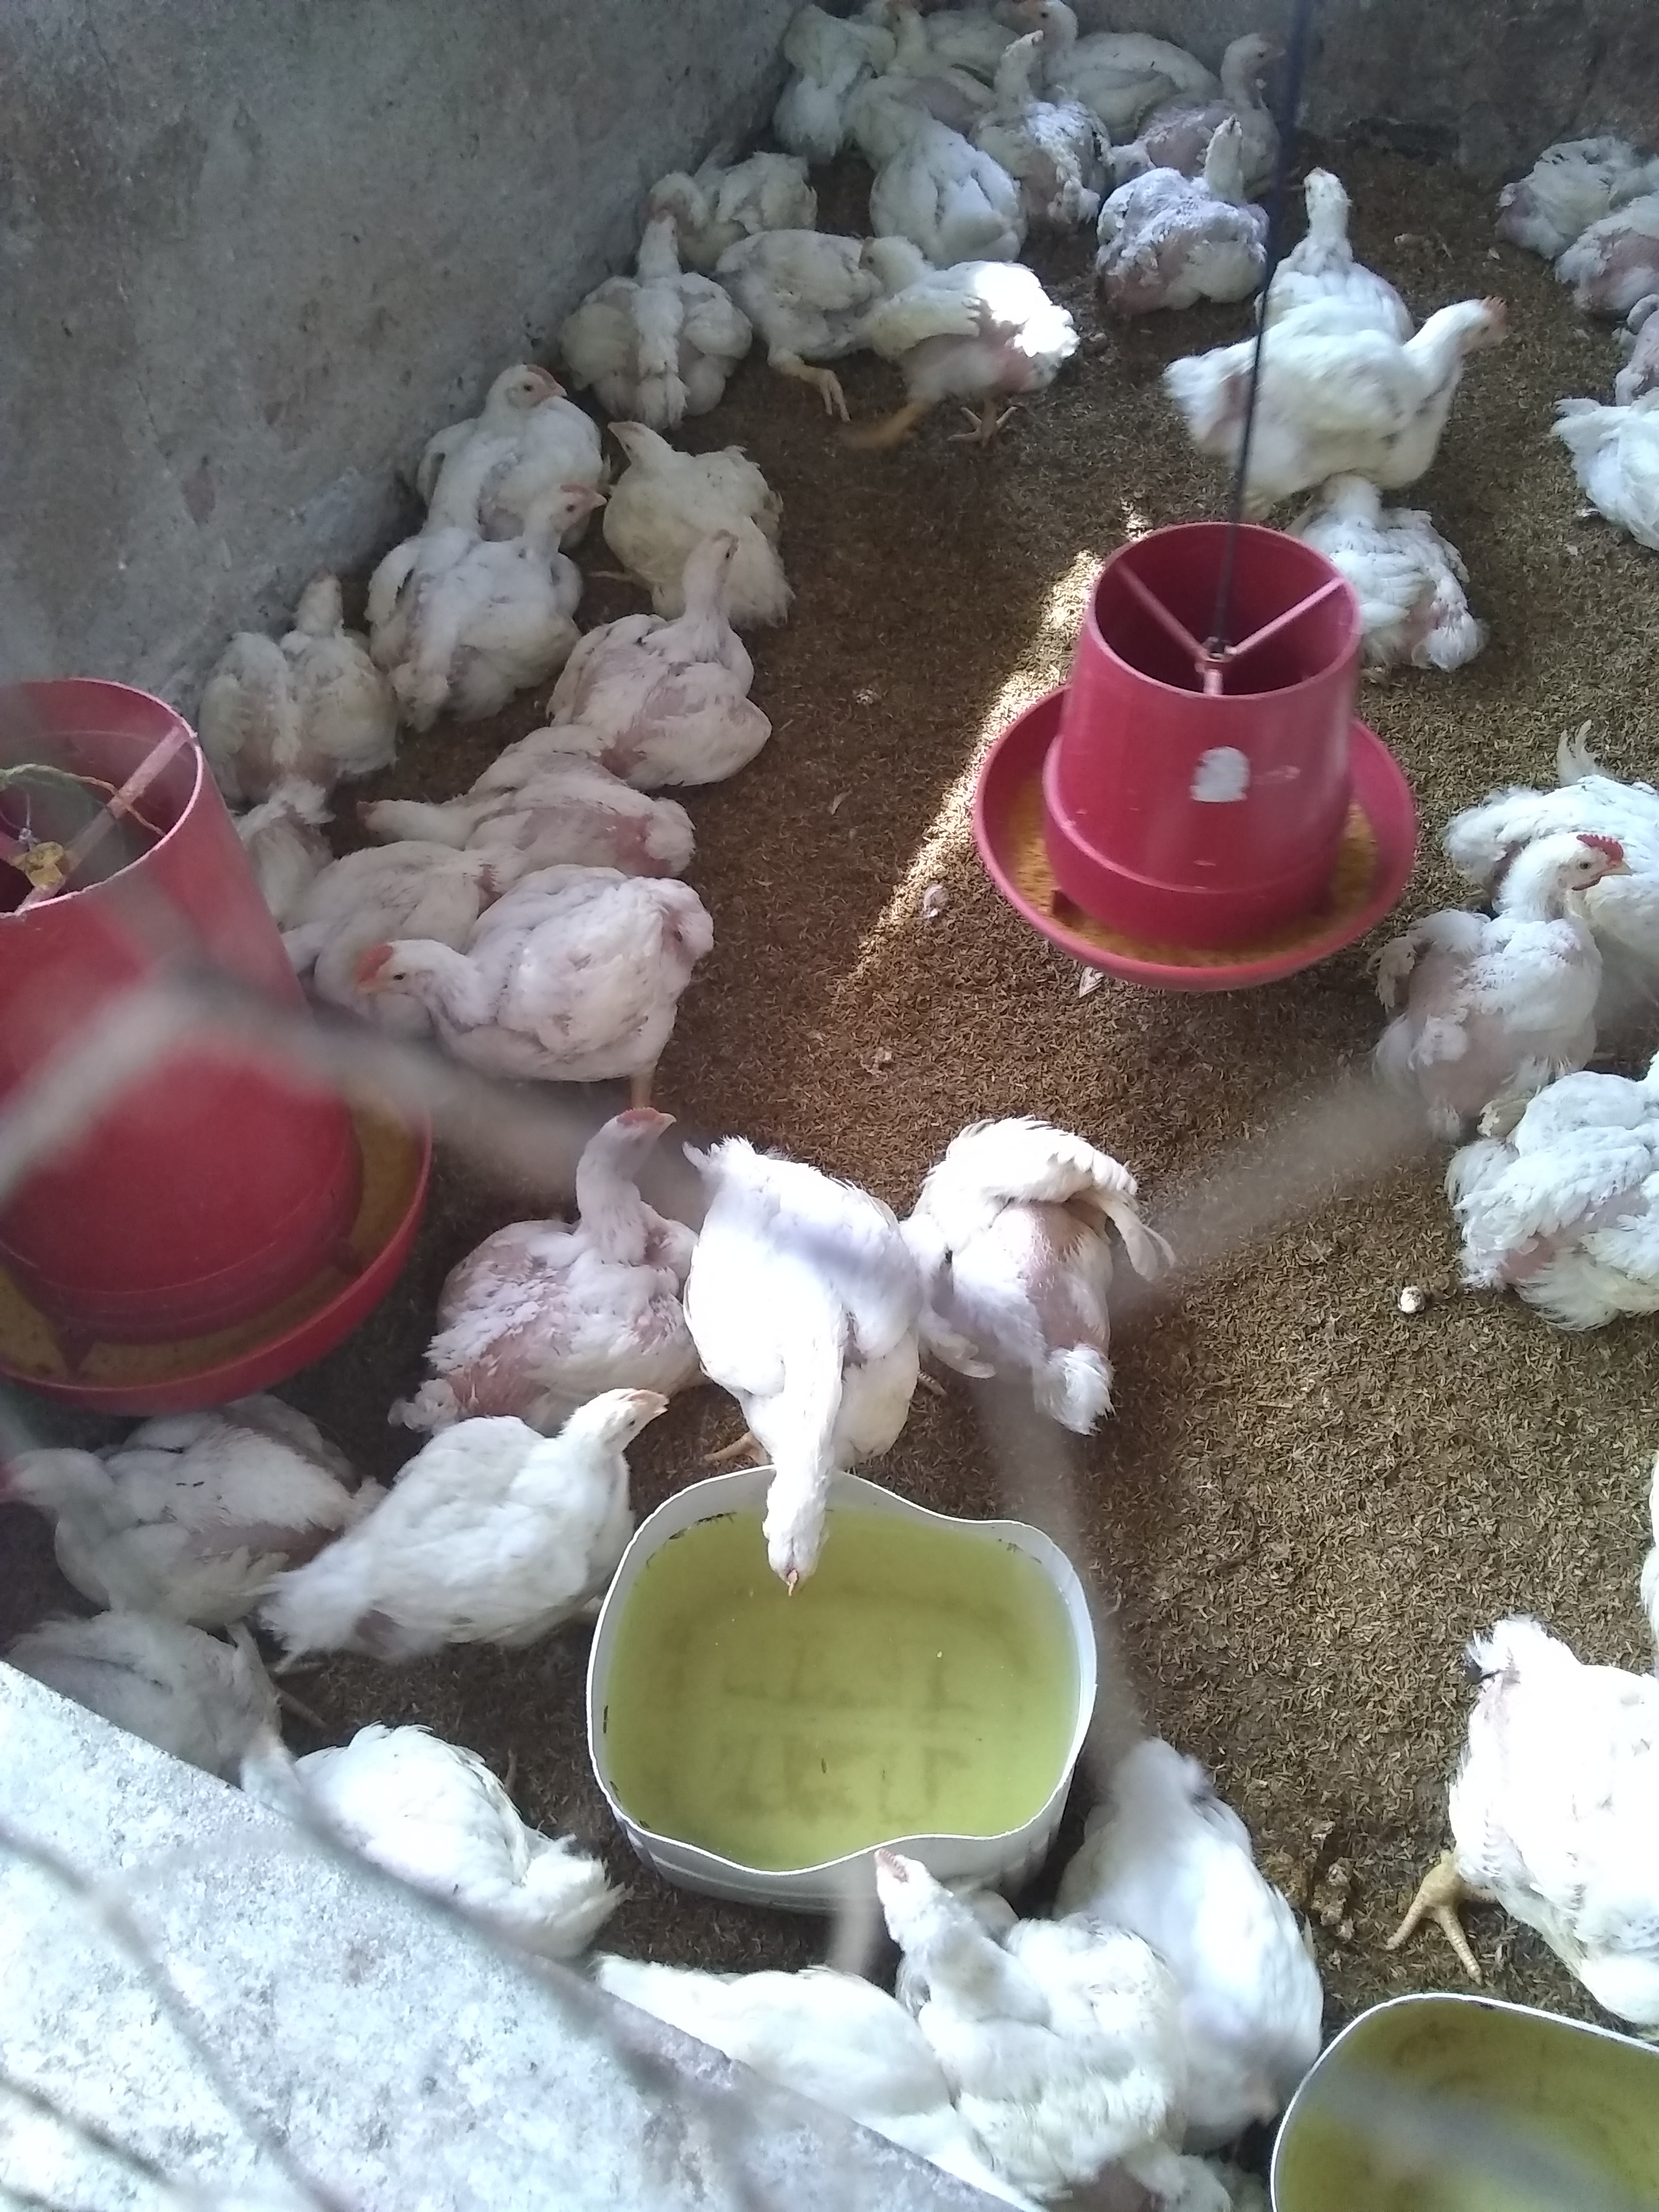Pollos: (263, 1374, 669, 1658), (861, 1851, 1190, 2179), (695, 1150, 911, 1599), (1392, 827, 1619, 1123), (924, 1111, 1129, 1407), (362, 866, 702, 1043), (0, 1414, 247, 1616), (493, 1103, 681, 1357), (218, 545, 413, 787), (1276, 289, 1527, 460), (584, 524, 749, 775), (850, 240, 1070, 388), (422, 486, 610, 658), (953, 0, 1105, 183), (1108, 122, 1255, 293), (605, 207, 739, 388), (464, 354, 606, 477), (594, 406, 734, 517)
